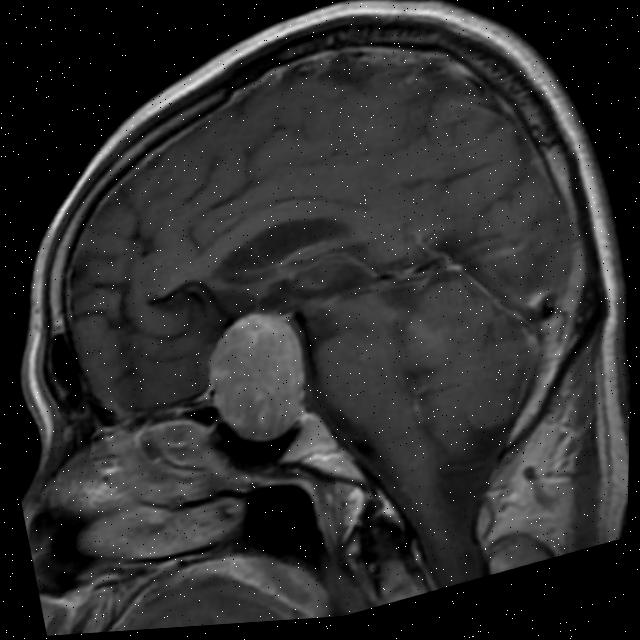Pituitary: (195, 299, 319, 454)
